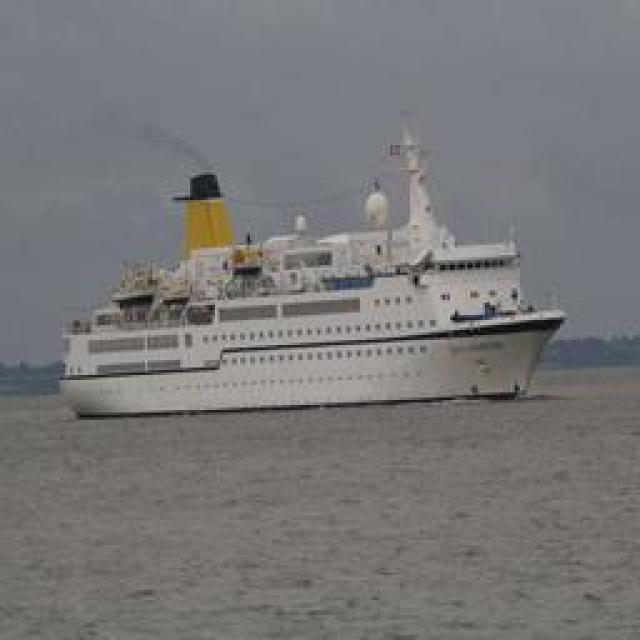Ship: (50, 157, 572, 418)
